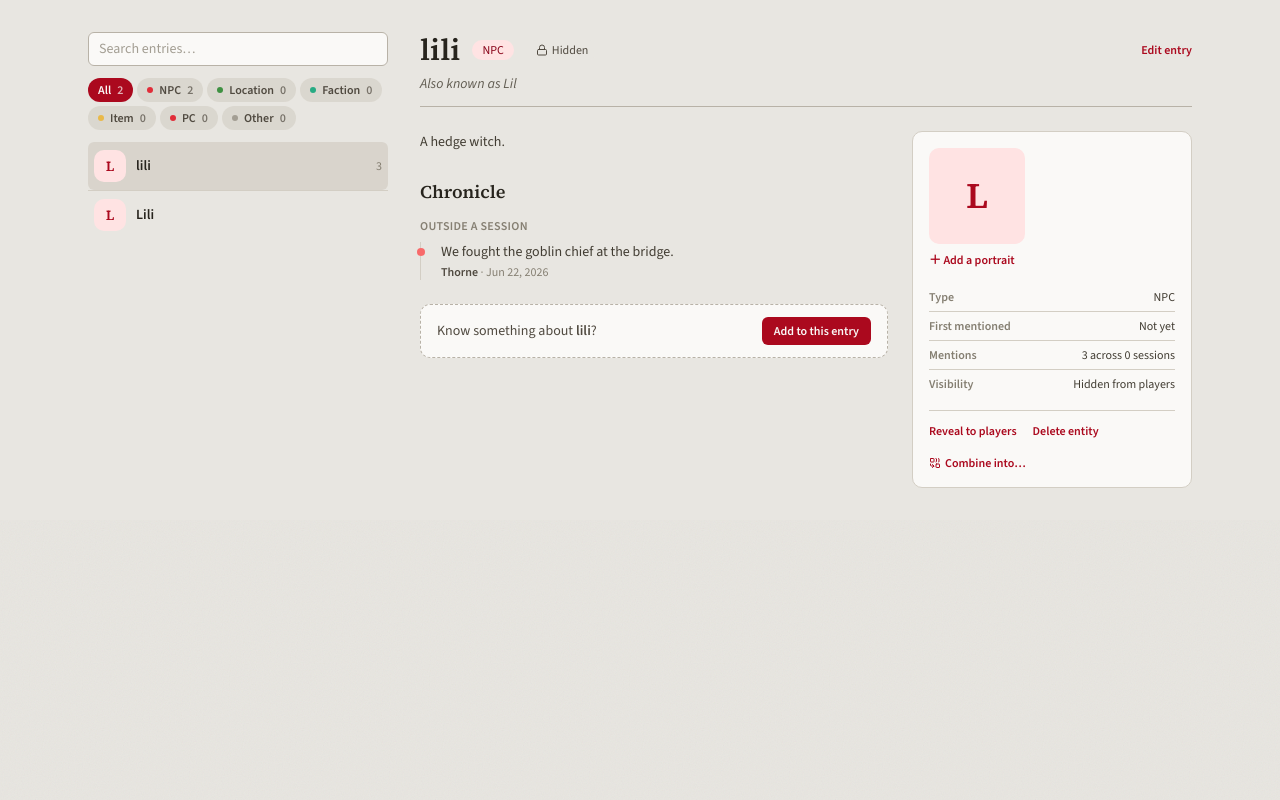
Test: EntityDetailPage (#248) › Combine into… (#1943) › warns inline when the duplicate is in a PREPARED identity merge
What coordinates should you click on to do the following:
click the button "Combine into…"
I would click on:
 (977, 463)
Its box is left=929, top=455, right=1026, bottom=471.
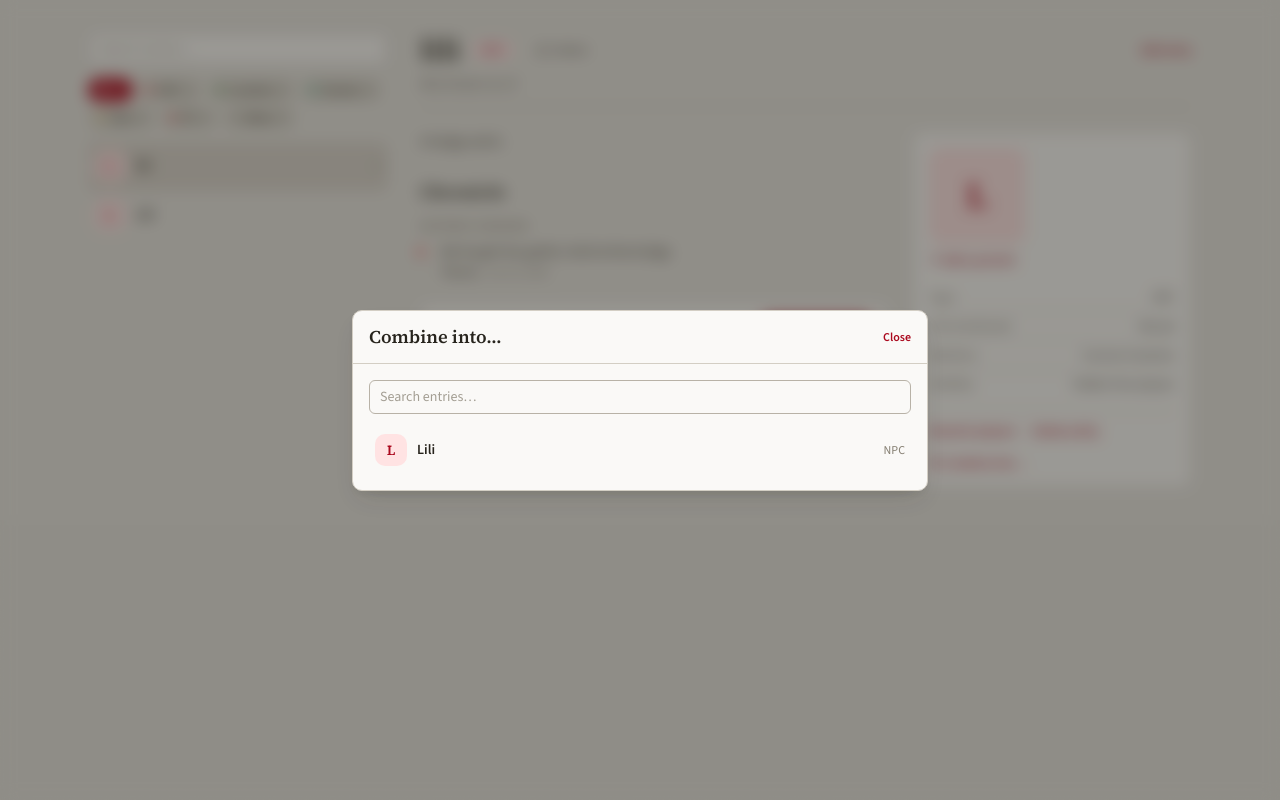
What coordinates should you click on to do the following:
click the button "L Lili NPC"
I would click on:
 (391, 450)
Its box is left=369, top=426, right=911, bottom=474.
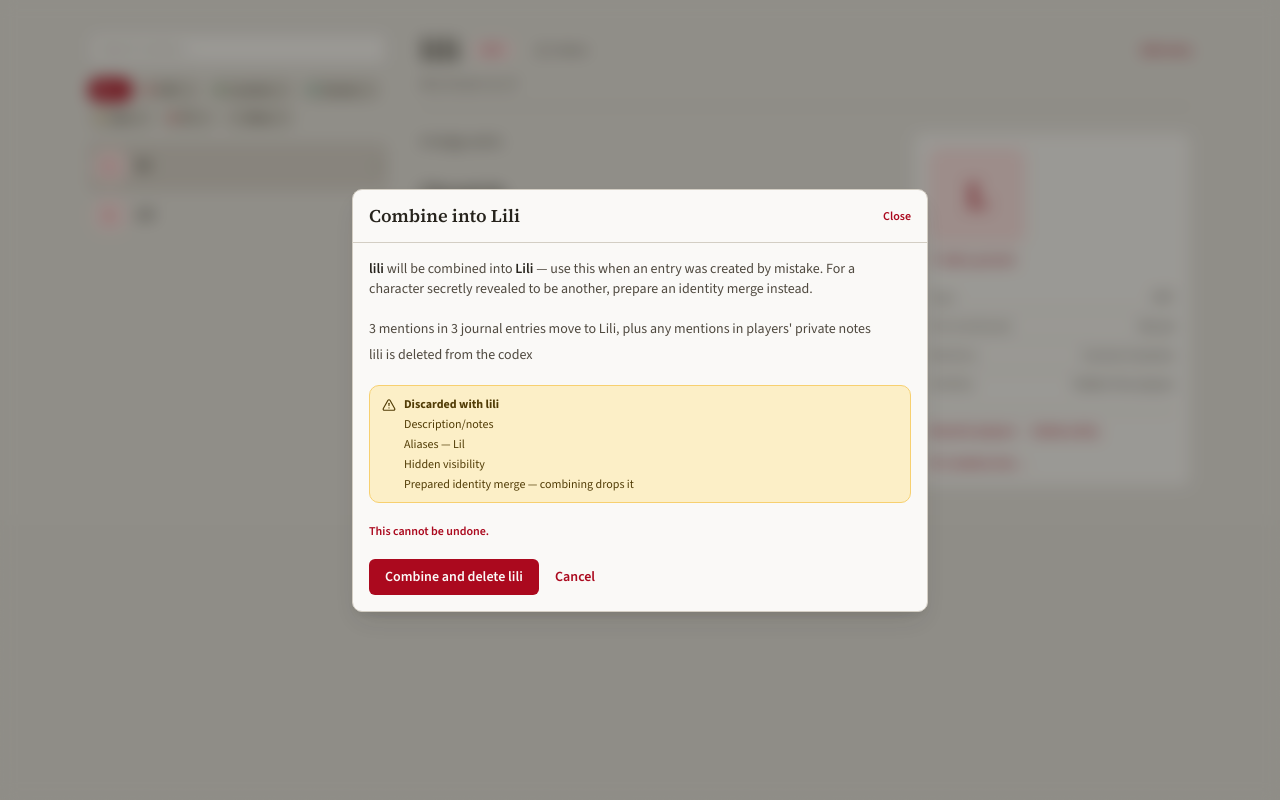
expect the list item "Prepared identity merge — combining drops it" is shown: met, box left=404, top=476, right=634, bottom=492
